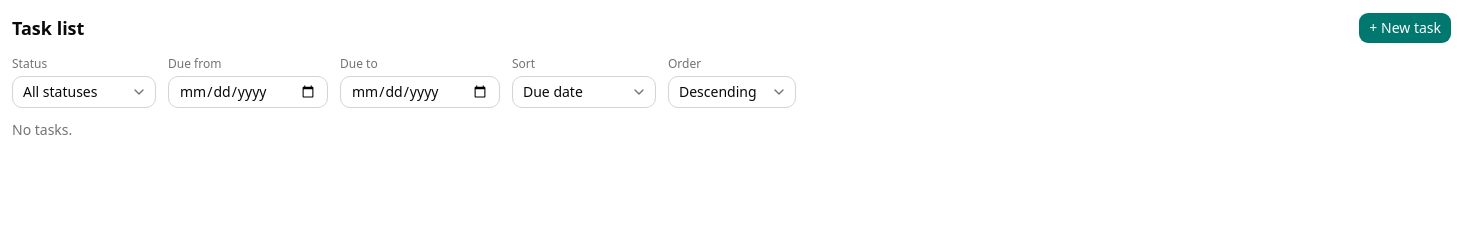
Test: ProjectTaskList › create form: Escape clears the title and hides the form
Click the button "+ New task" at point(1405, 28), box [1358,12,1452,44]
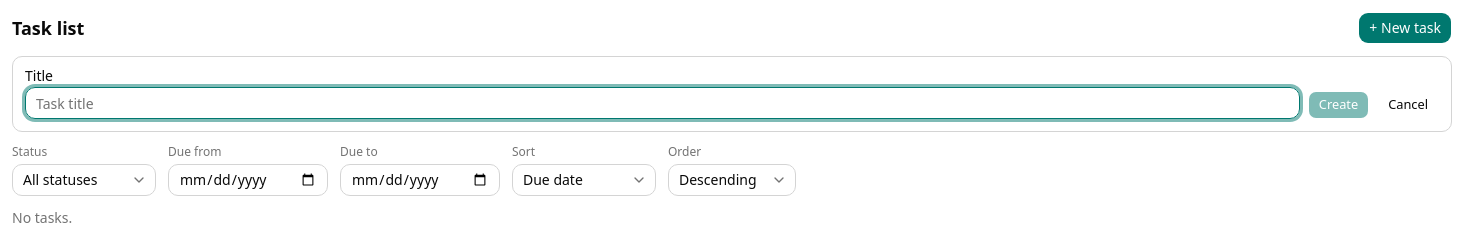
Type "Draft" into the field labelled "Title" at point(662, 103), box [25,87,1300,119]
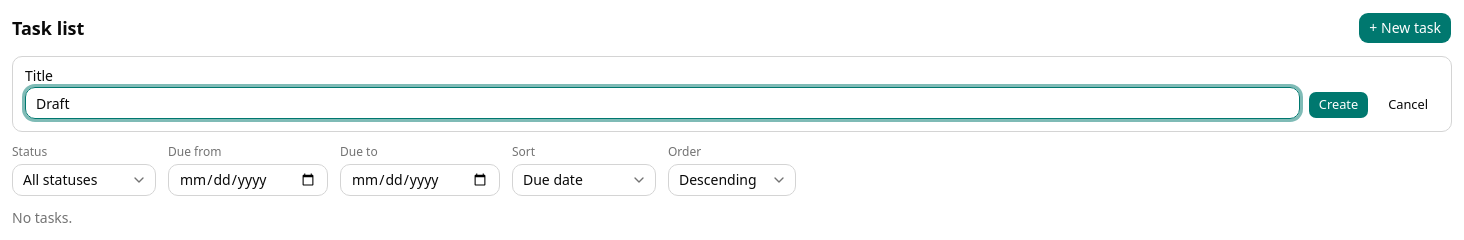
Press Escape in the field labelled "Title", box [25,87,1300,119]
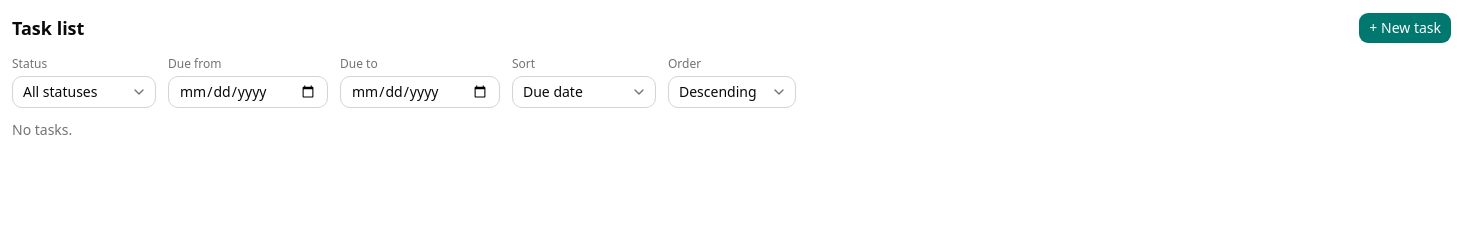
Check: the label labelled "Title" is gone
